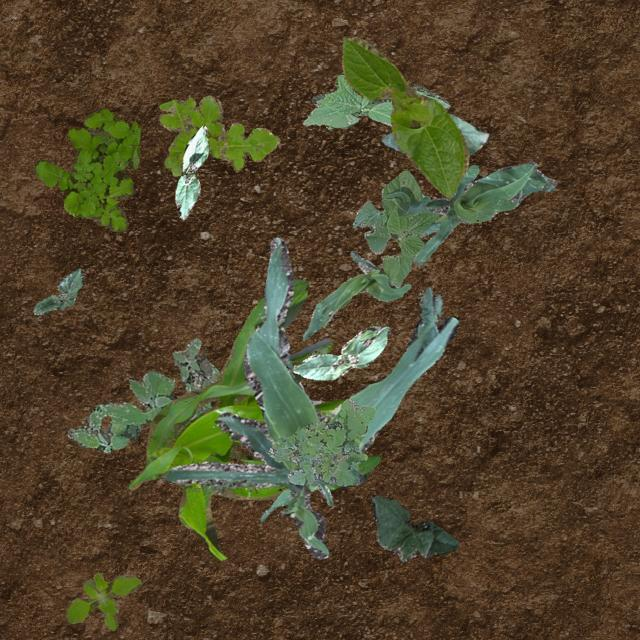crop: (162, 236, 458, 558), (128, 278, 380, 560), (340, 35, 468, 198), (412, 160, 556, 264), (352, 170, 446, 286), (302, 250, 409, 340), (302, 74, 448, 128), (370, 494, 458, 560), (292, 324, 389, 378), (379, 112, 488, 154), (174, 124, 208, 218), (260, 482, 332, 520), (32, 266, 84, 314)
weed: (66, 338, 218, 452), (32, 107, 140, 230), (158, 94, 278, 176), (268, 398, 374, 486), (64, 572, 140, 628)
